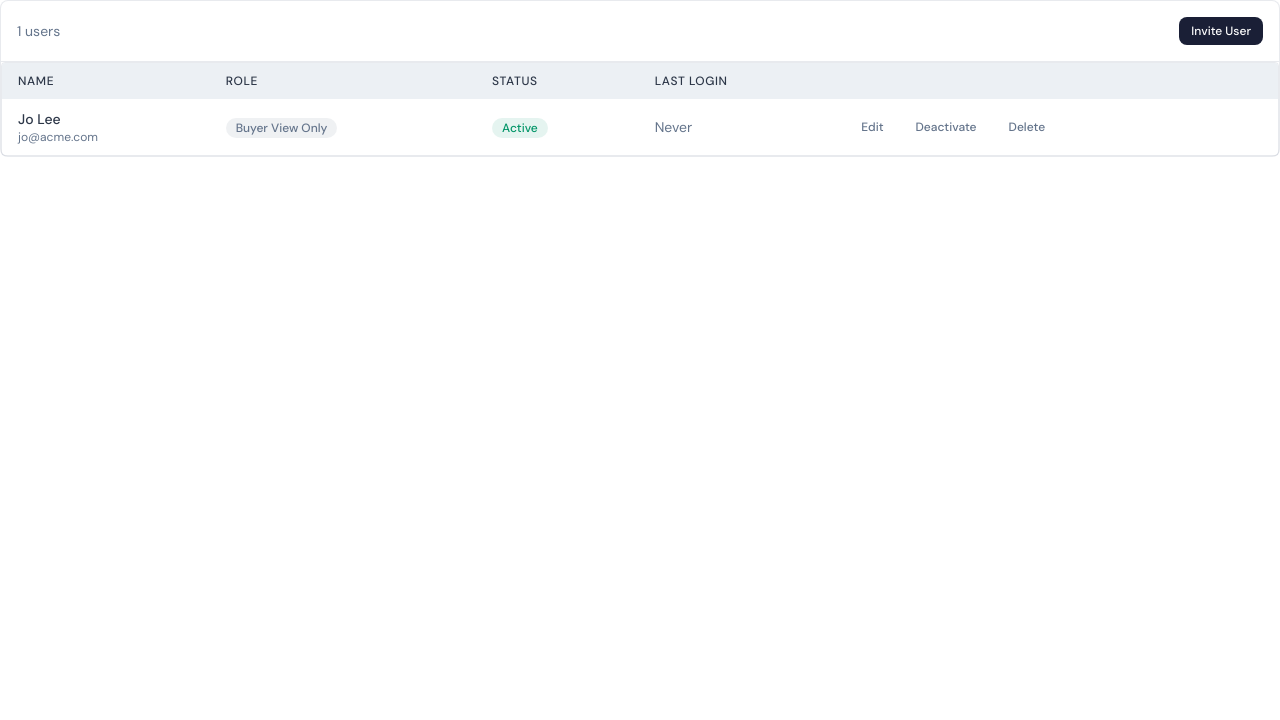
Test: UsersTable — mutations surface failures (no fire-and-forget) › deactivate: surfaces the error and shows no success toast when the PATCH fails
This screenshot has width=1280, height=720.
Expected: the text "Jo Lee" is shown, top-left (18, 110), bottom-right (61, 128)
Click the button "Deactivate". click: (946, 127)
box: top-left (904, 113), bottom-right (988, 141)
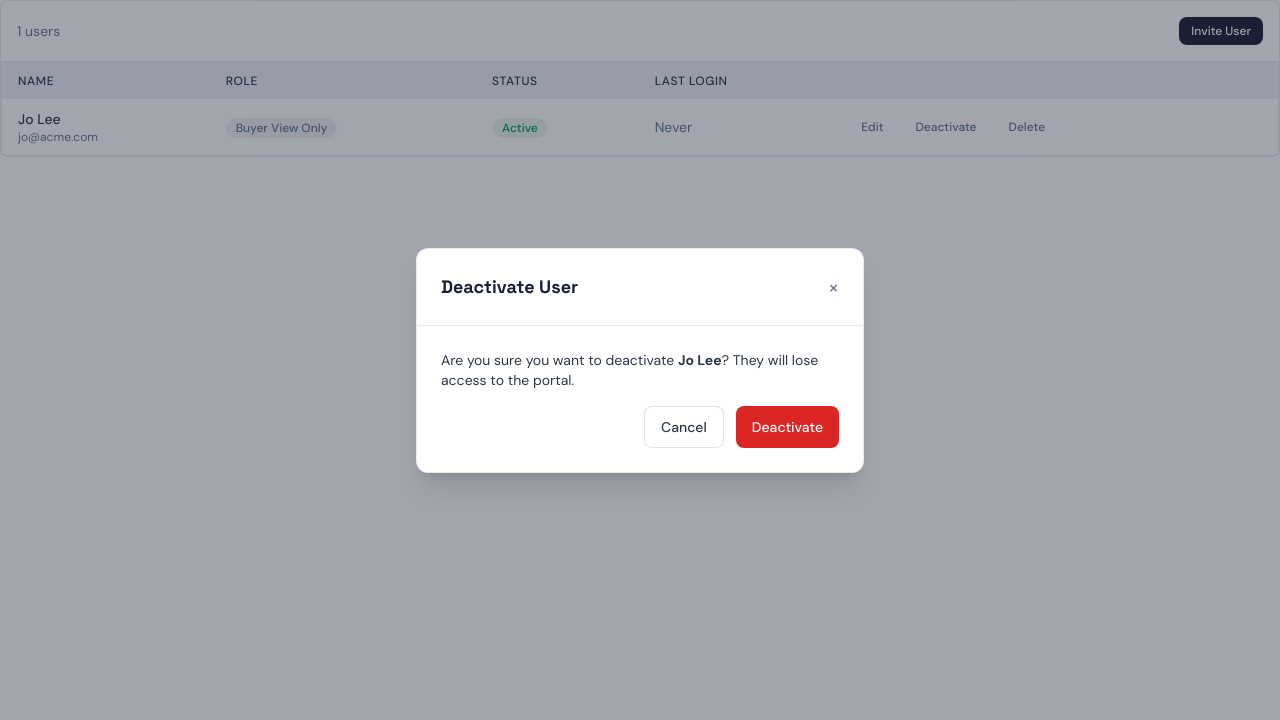
Click the button "Deactivate". click: (787, 426)
box: top-left (736, 406), bottom-right (839, 448)
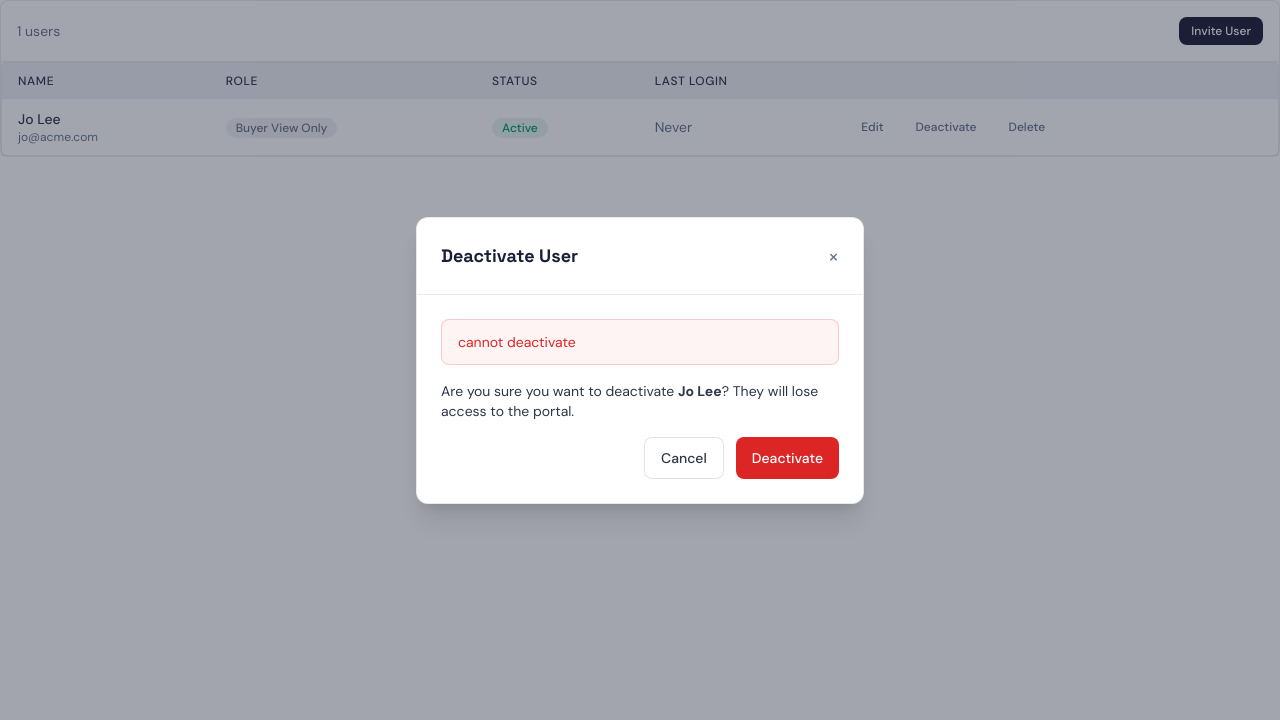
Now the text "cannot deactivate" is shown, box top-left (441, 318), bottom-right (839, 364)
